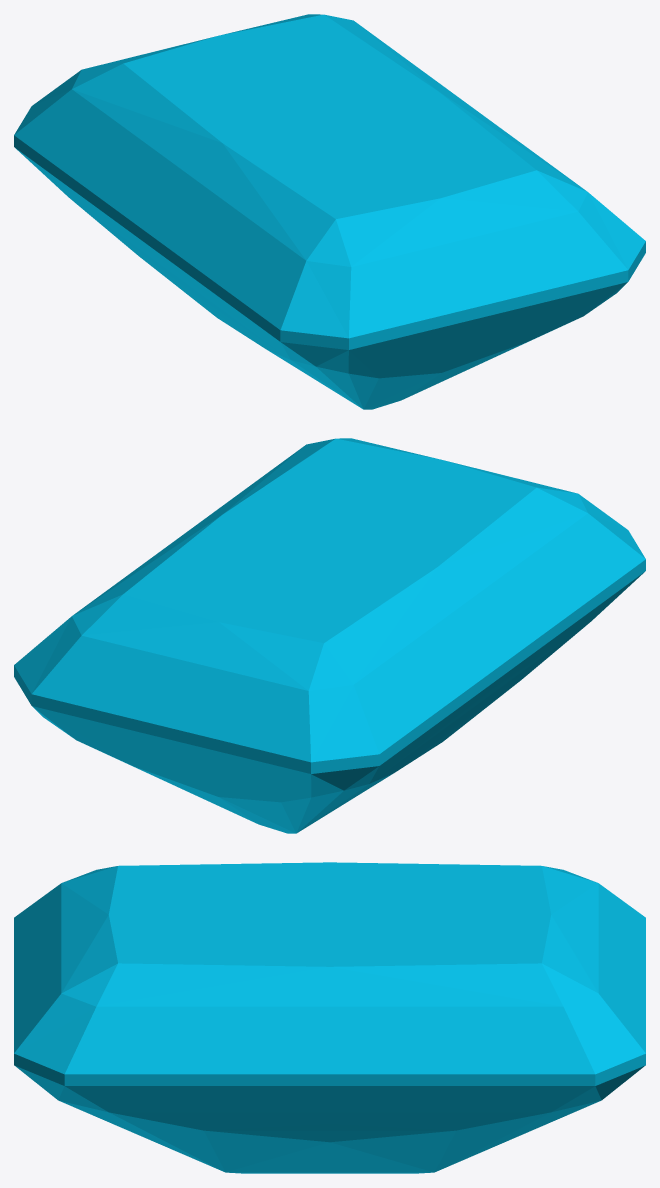
File: Head_No Halo_Radiant_0.50ct_Diamond.glb
The picture shows the model from 3 angles, top to bottom: view 1: azimuth 30°, elevation 25°; view 2: azimuth 150°, elevation 25°; view 3: azimuth 270°, elevation 25°; orthographic projection.
Size of the model in its own units: 0.00376 by 0.00256 by 0.00566.
